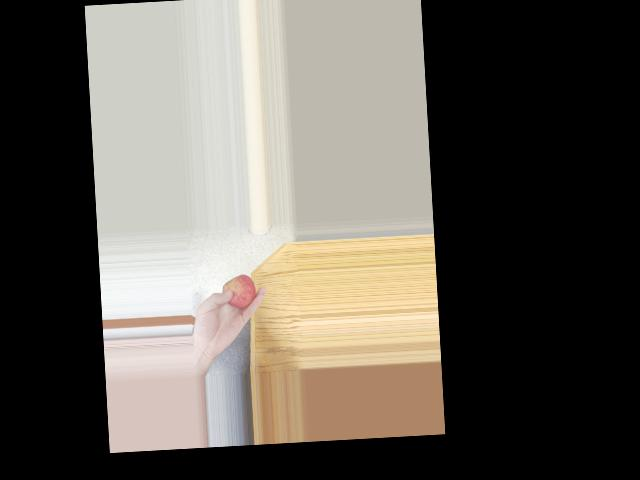apple: (217, 272, 257, 311)
